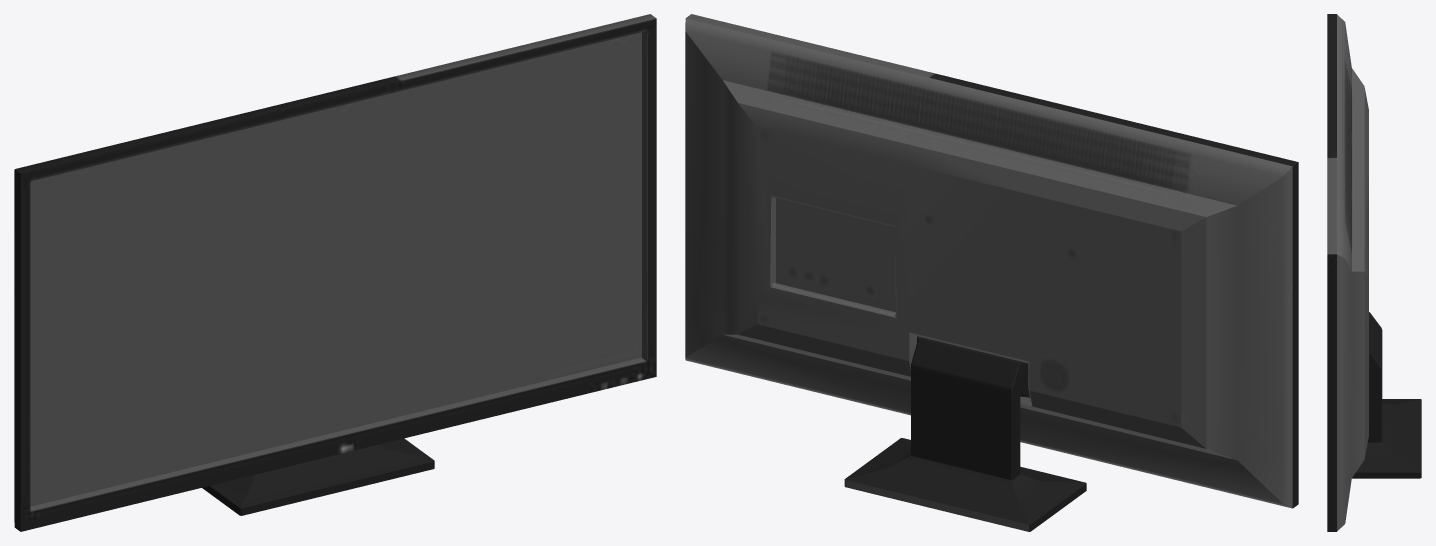
3 views of the same model, side by side, from view 1: azimuth 30°, elevation 25°; view 2: azimuth 150°, elevation 25°; view 3: azimuth 270°, elevation 25° (orthographic). The views are drawn at different scales.
Visible parts, largest first — view 1: led_tv; view 2: led_tv; view 3: led_tv.
Boxes of the visible parts, x1=… form: led_tv: x1=14, y1=14, x2=656, y2=531; led_tv: x1=685, y1=14, x2=1298, y2=531; led_tv: x1=1327, y1=14, x2=1421, y2=531.
Size of the model in its own units: 5.12 by 3.05 by 0.8472.
Materials: 1 (1 with a texture image).
